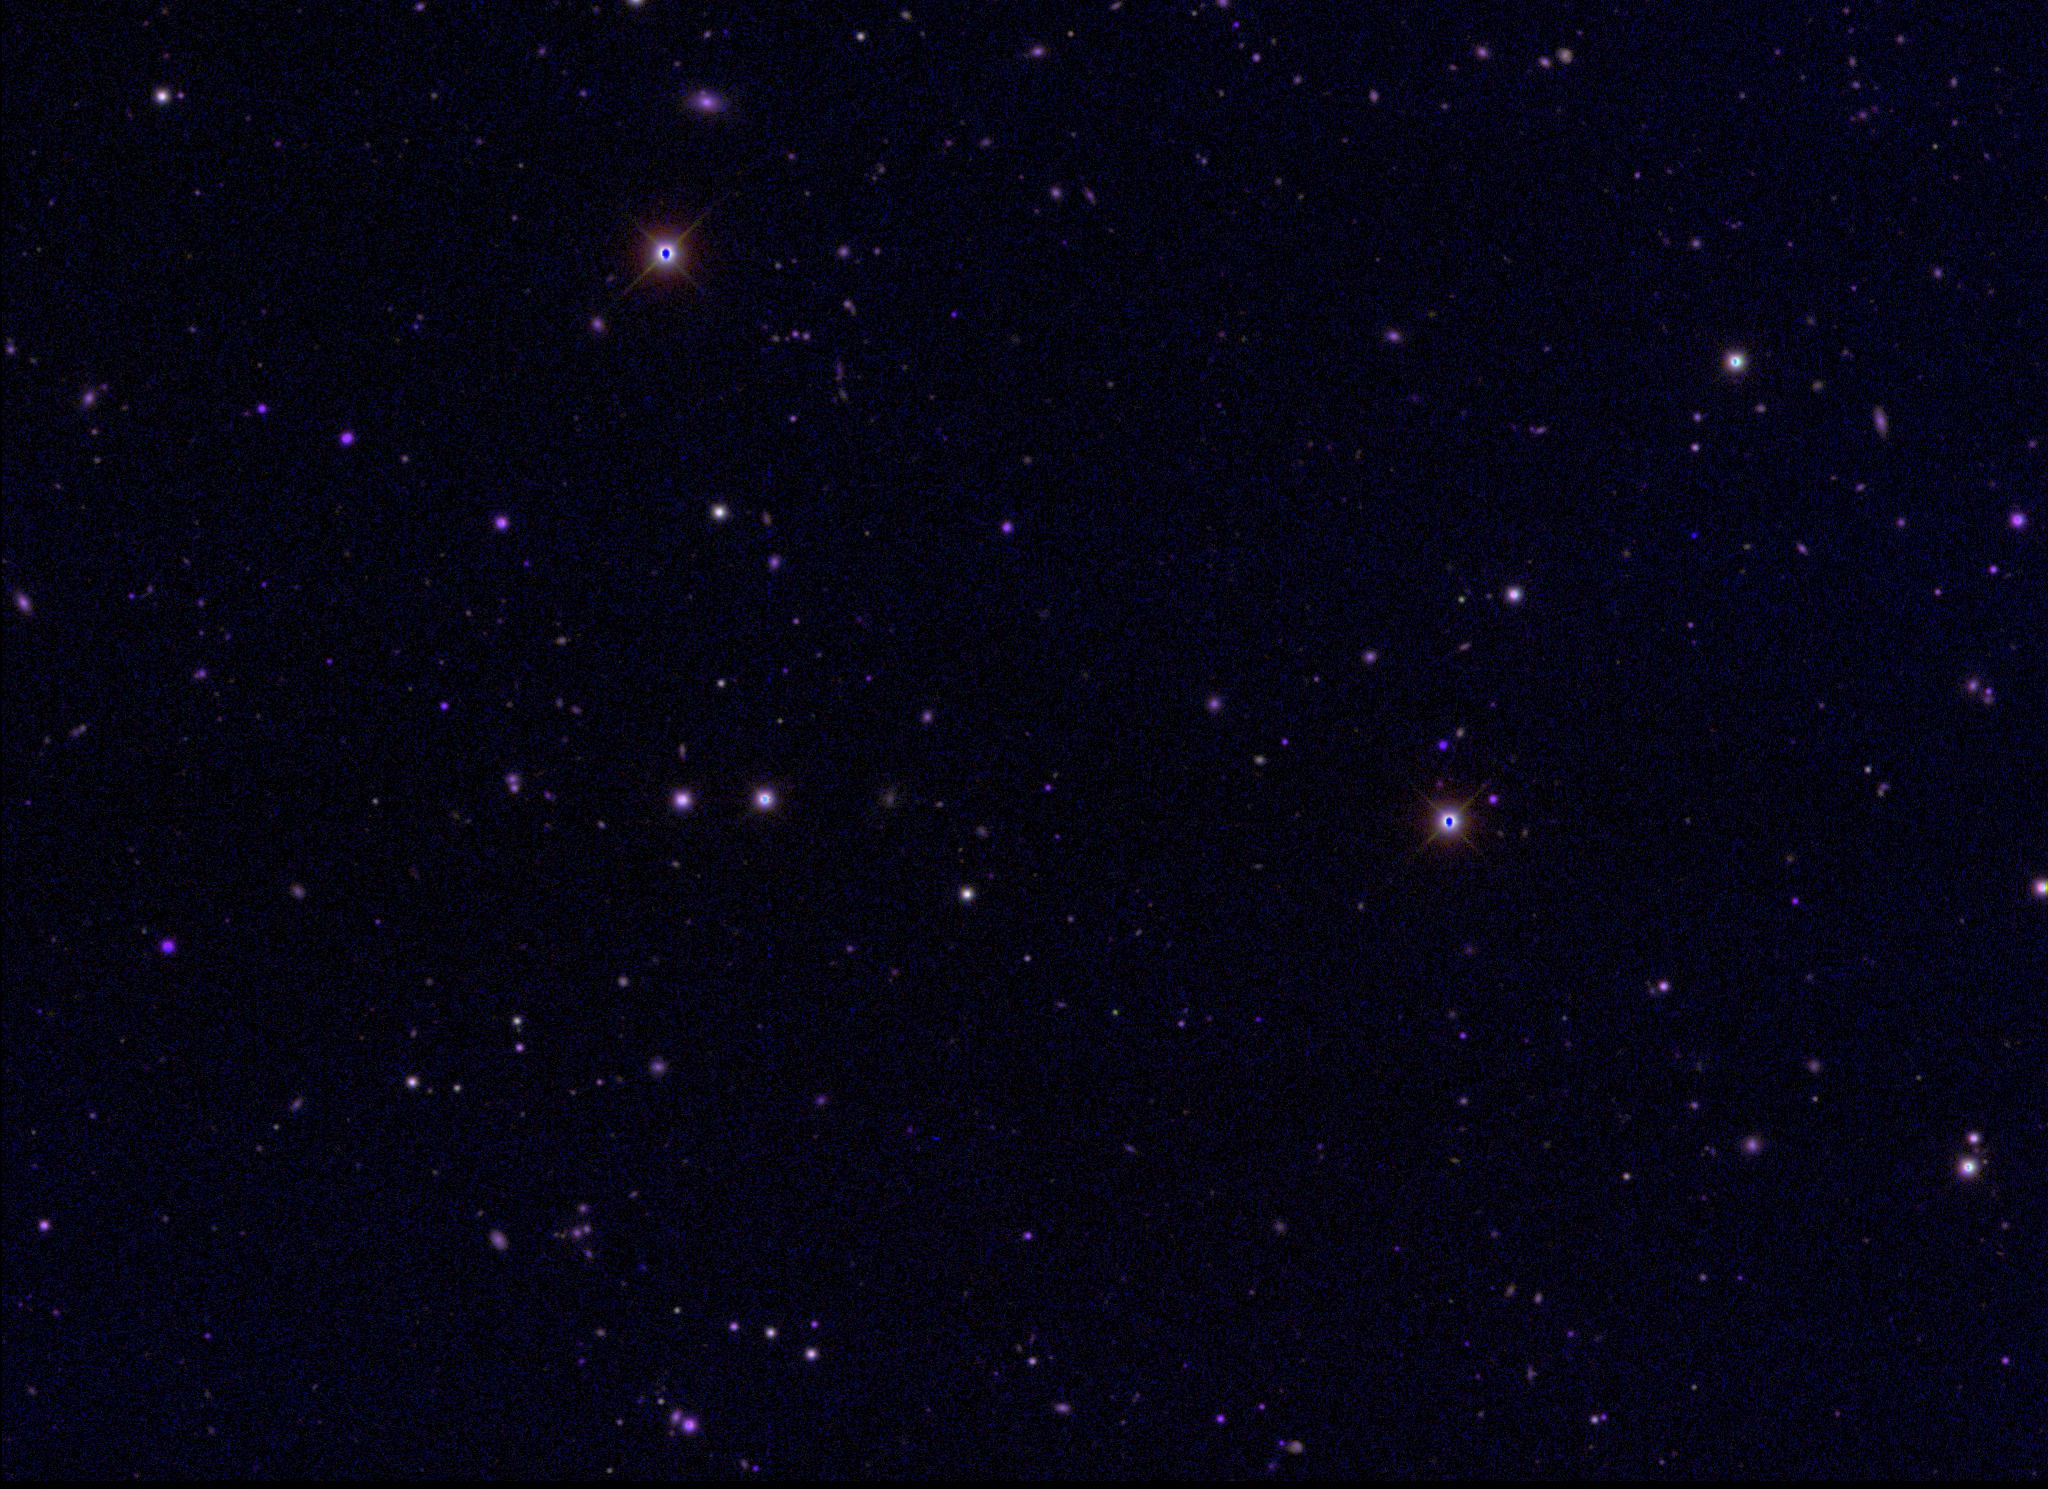L: (1687, 531, 1701, 546)
